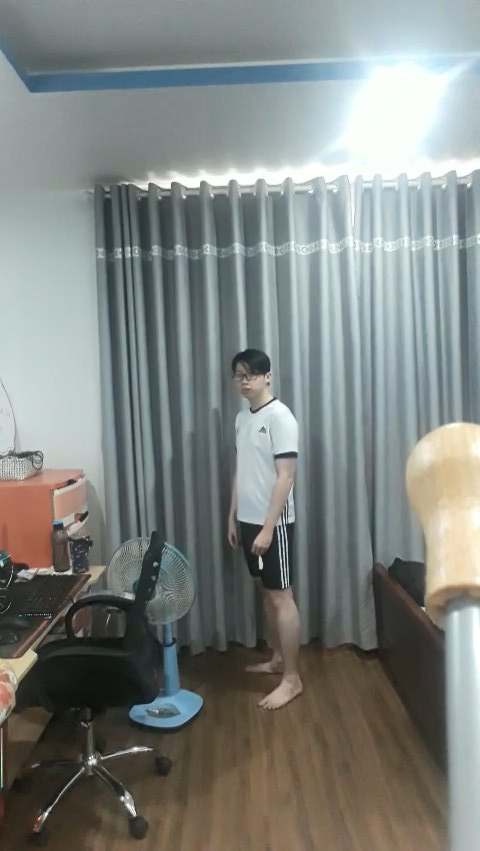cigarette: (256, 556, 264, 568)
person: (216, 347, 326, 712)
